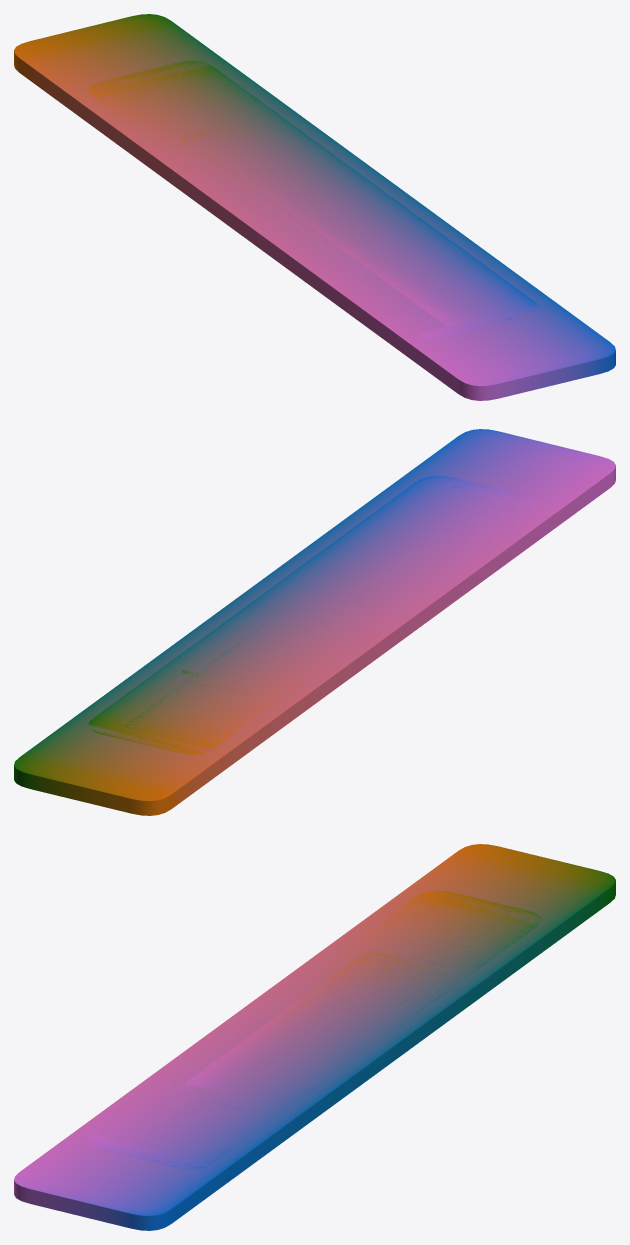
Rendered from RunwayPieces.fbx.
3 views of the same model, one above another, from view 1: azimuth 30°, elevation 25°; view 2: azimuth 150°, elevation 25°; view 3: azimuth 330°, elevation 25° (orthographic).
Parts seen in each view (by area): view 1: RunwayPieces; view 2: RunwayPieces; view 3: RunwayPieces.
Boxes of the visible parts, <box> form: RunwayPieces: <box>14,14,615,400</box>; RunwayPieces: <box>14,429,615,815</box>; RunwayPieces: <box>14,844,615,1230</box>.
Bounding box in the file's own units: 1.77 × 0.164 × 9.43.
